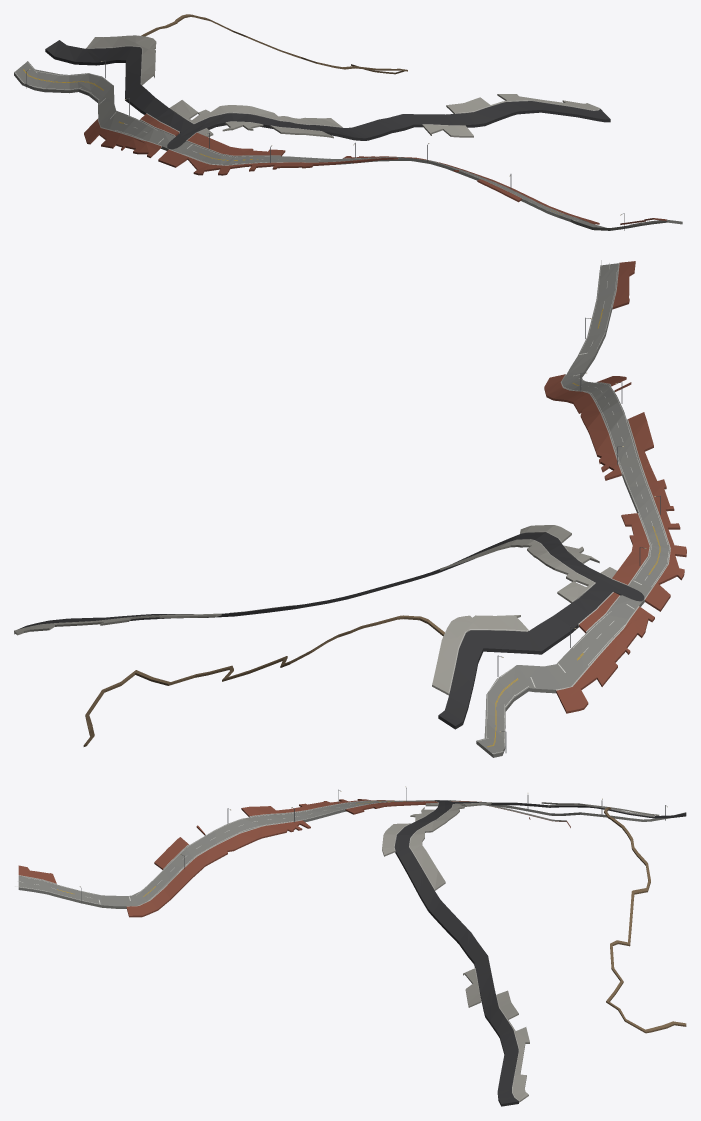
3 renders of one model, top to bottom at view 1: azimuth 30°, elevation 25°; view 2: azimuth 150°, elevation 25°; view 3: azimuth 270°, elevation 25°, orthographic. The views are drawn at different scales.
Bounding box in the file's own units: 220 × 73.69 × 294.
